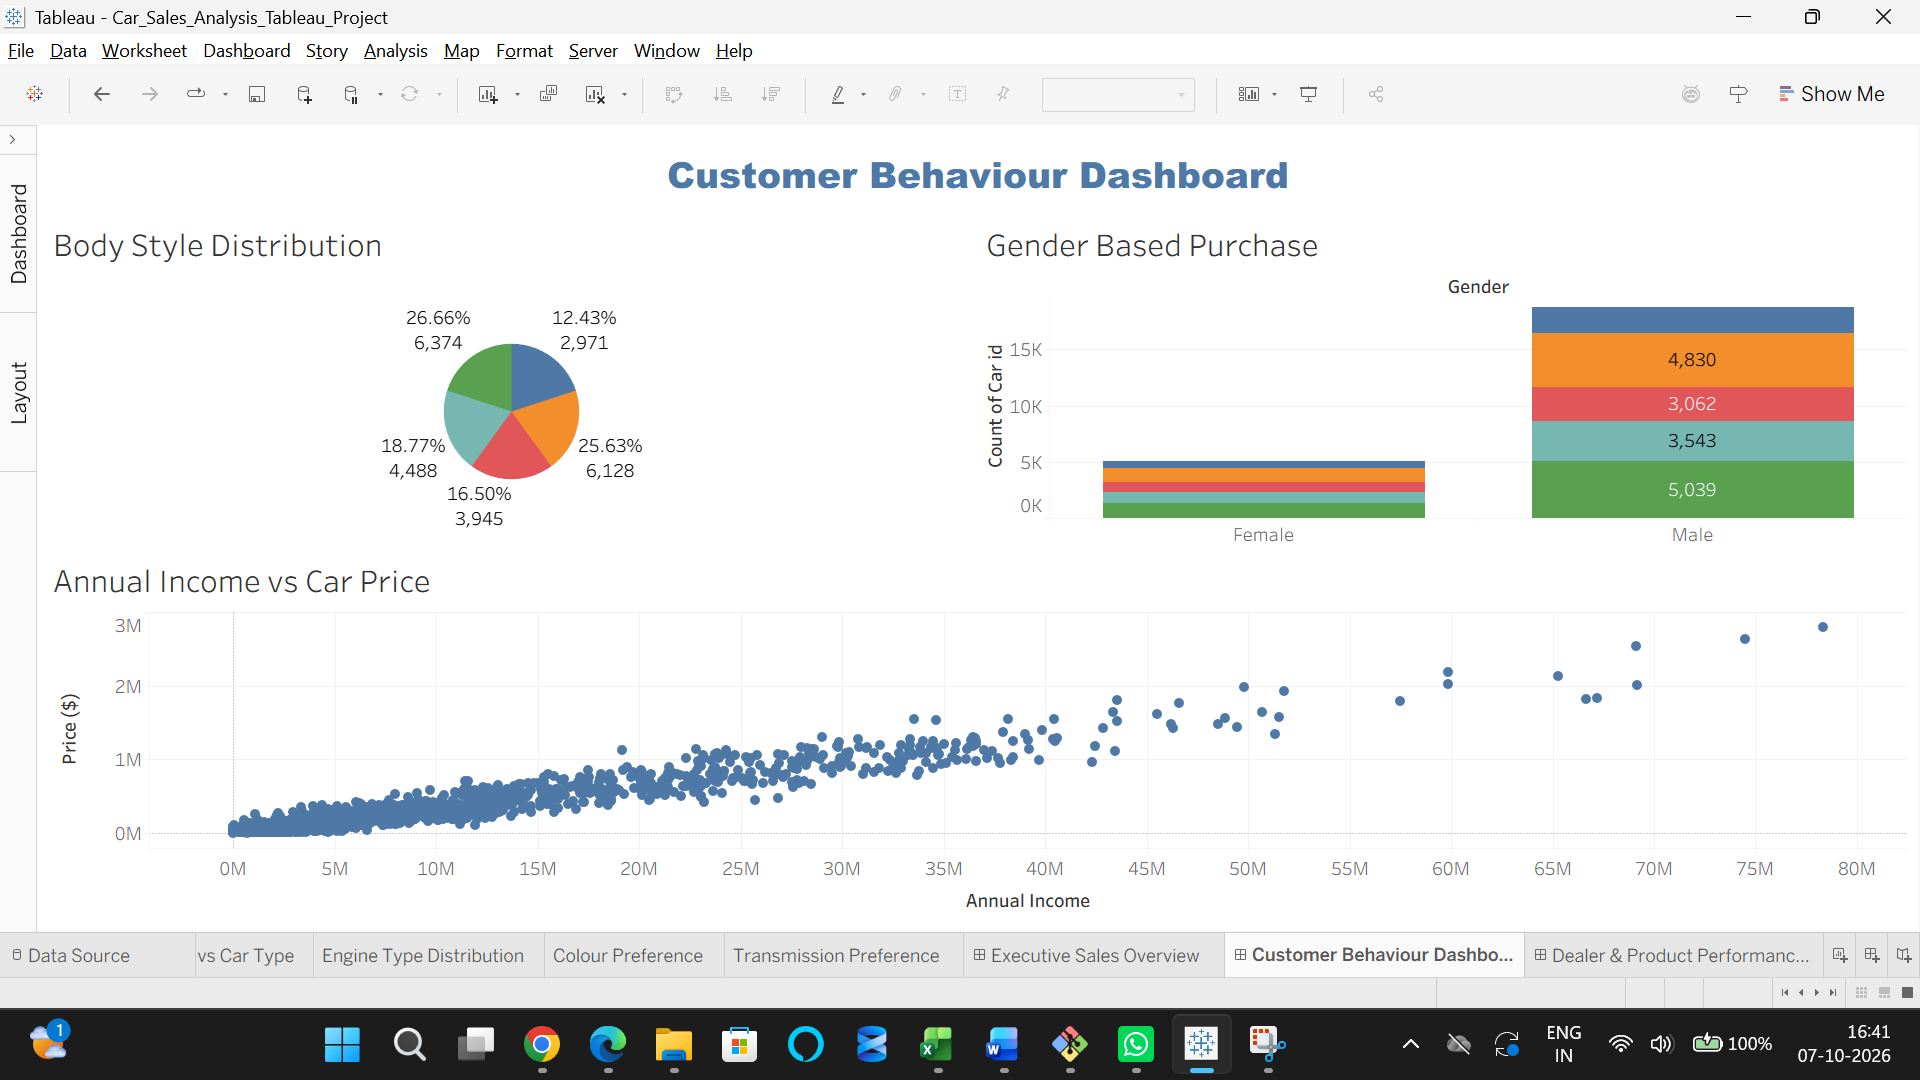

The page's visual inventory and layout, read from the dashboard file:
{"tool":"tableau","page":{"name":"Customer Behaviour Dashboard","canvas":[1000,1000],"units":"permille","ordinal":0},"visuals":[{"type":"text","box":[5,9.9,990,101.7]},{"type":"worksheet","title":"Body Style Distribution","mark":"Pie","box":[5,111.7,495,416.9]},{"type":"worksheet","title":"Gender Based Purchase","mark":"Automatic","rows":["Car_id"],"cols":["Gender"],"box":[500,111.7,495,416.9]},{"type":"worksheet","title":"Annual Income vs Car Price","mark":"Circle","rows":["Price ($)"],"cols":["Annual Income"],"box":[5,528.5,990,461.5]}]}

Visuals, with their boxes on the dashboard's canvas, which has no fixed pixel size, in thousandths of its width and height (x1, y1, x2, y2). These are canvas units, not pixel positions in the 1920x1080 screenshot, which may show the page scaled, cropped or inside an application window:
text: x1=5, y1=10, x2=995, y2=112
"Body Style Distribution" worksheet (Pie marks): x1=5, y1=112, x2=500, y2=529
"Gender Based Purchase" worksheet: x1=500, y1=112, x2=995, y2=529
"Annual Income vs Car Price" worksheet (Circle marks): x1=5, y1=528, x2=995, y2=990
